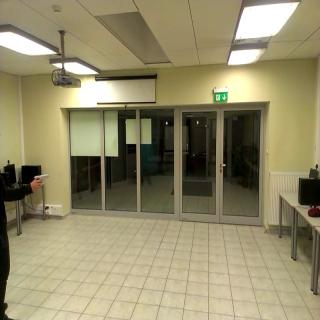gun: (30, 169, 50, 189)
